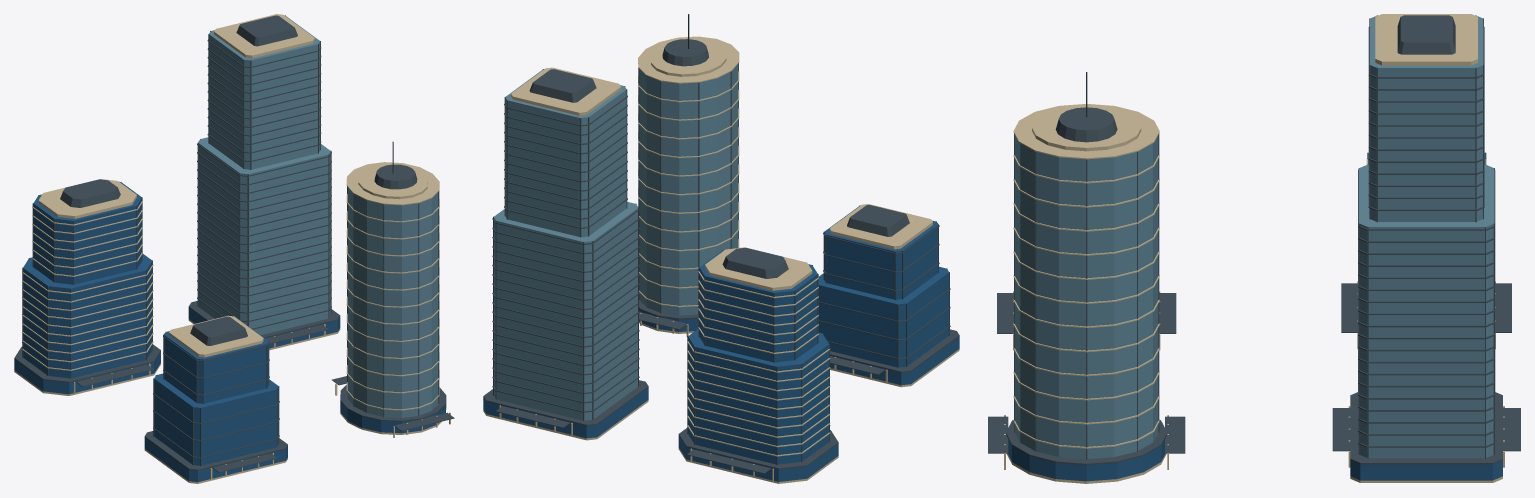
Rendered from CityBlock2.dae.
3 views of the same model, side by side, from view 1: azimuth 30°, elevation 25°; view 2: azimuth 150°, elevation 25°; view 3: azimuth 270°, elevation 25° (orthographic). The views are drawn at different scales.
Visible parts, largest first — view 1: silverglass, glass, slate, limestone; view 2: silverglass, glass, slate, limestone; view 3: silverglass, slate, limestone, glass.
Part boxes in pixels (left/top/right/bottom): silverglass: left=198, top=15, right=438, bottom=417; glass: left=14, top=181, right=446, bottom=481; slate: left=14, top=15, right=454, bottom=472; limestone: left=14, top=14, right=450, bottom=483; silverglass: left=494, top=64, right=738, bottom=420; glass: left=483, top=205, right=959, bottom=481; slate: left=483, top=39, right=959, bottom=473; limestone: left=483, top=36, right=959, bottom=483; silverglass: left=1015, top=15, right=1494, bottom=458; slate: left=988, top=15, right=1520, bottom=465; limestone: left=1004, top=14, right=1504, bottom=483; glass: left=1006, top=152, right=1502, bottom=481.
Size of the model in its own units: 108 by 106 by 122.
